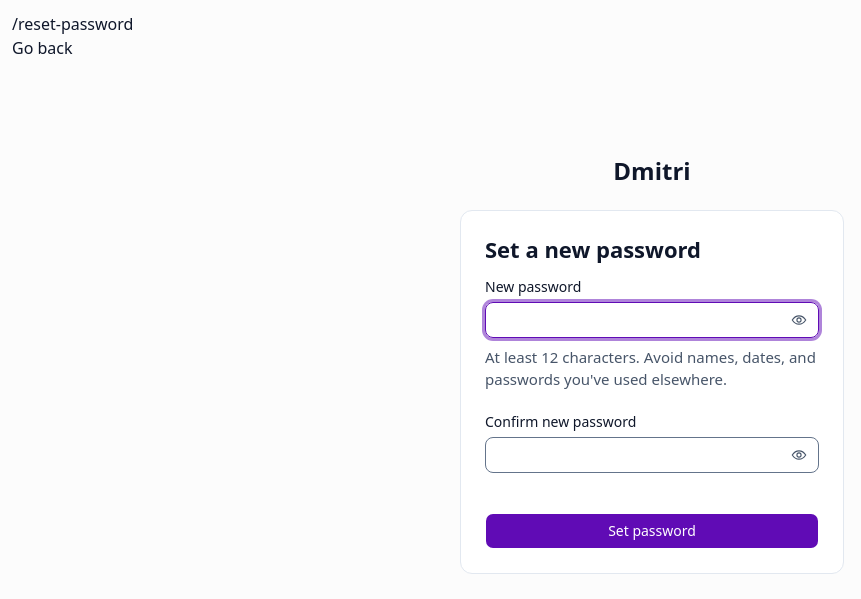
Test: ResetPassword › sends exactly { token, new_password } and never the confirmation
Type "a-long-enough-password" into the password field labelled "New password" at (652, 320), box [485,302,819,338]
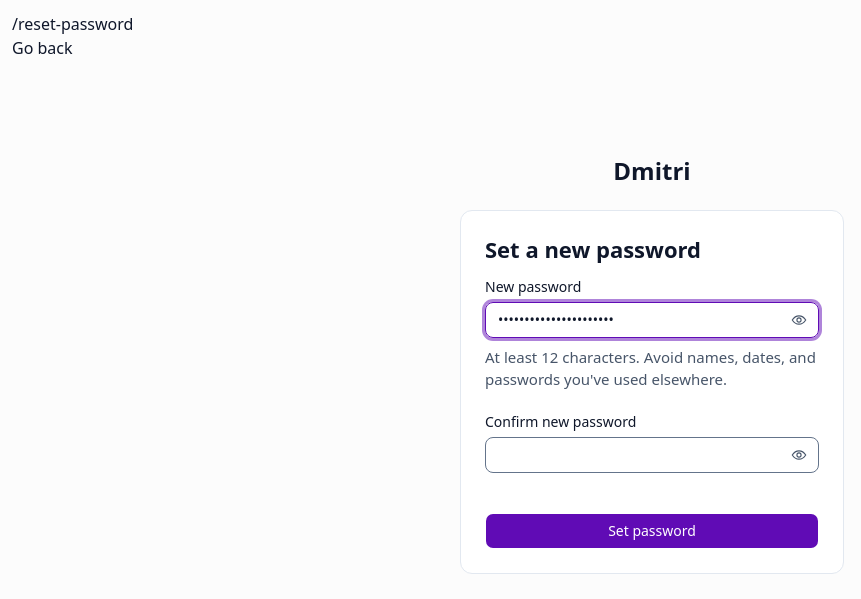
Type "a-long-enough-password" into the password field labelled "Confirm new password" at (652, 455), box [485,437,819,473]
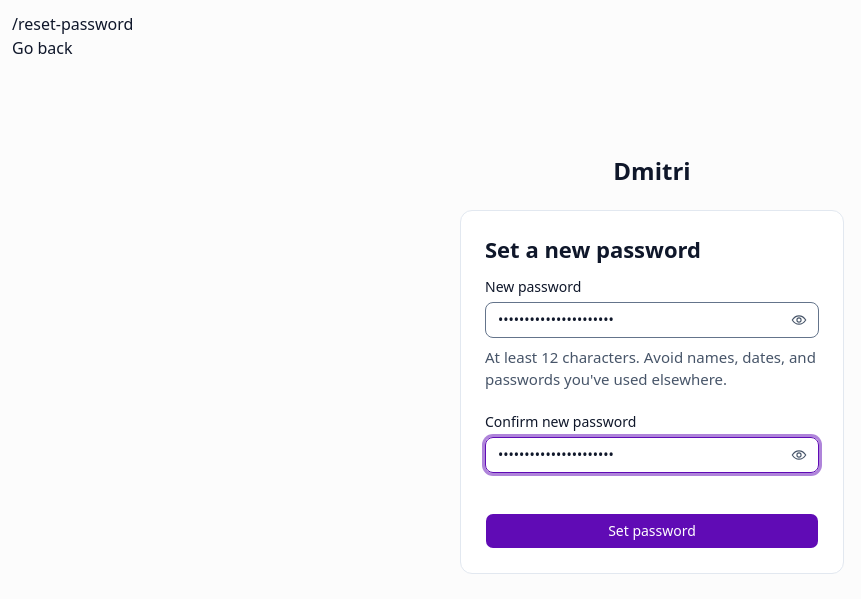
Click the button with test id "reset-submit" at (652, 531), box [485,513,819,549]
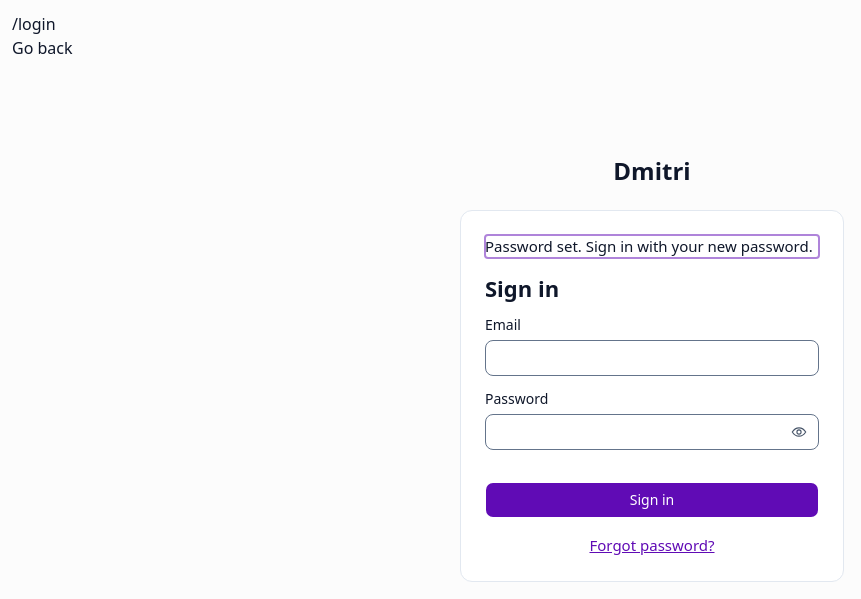
Now the form with test id "login-form" is shown, box [485,274,819,518]
